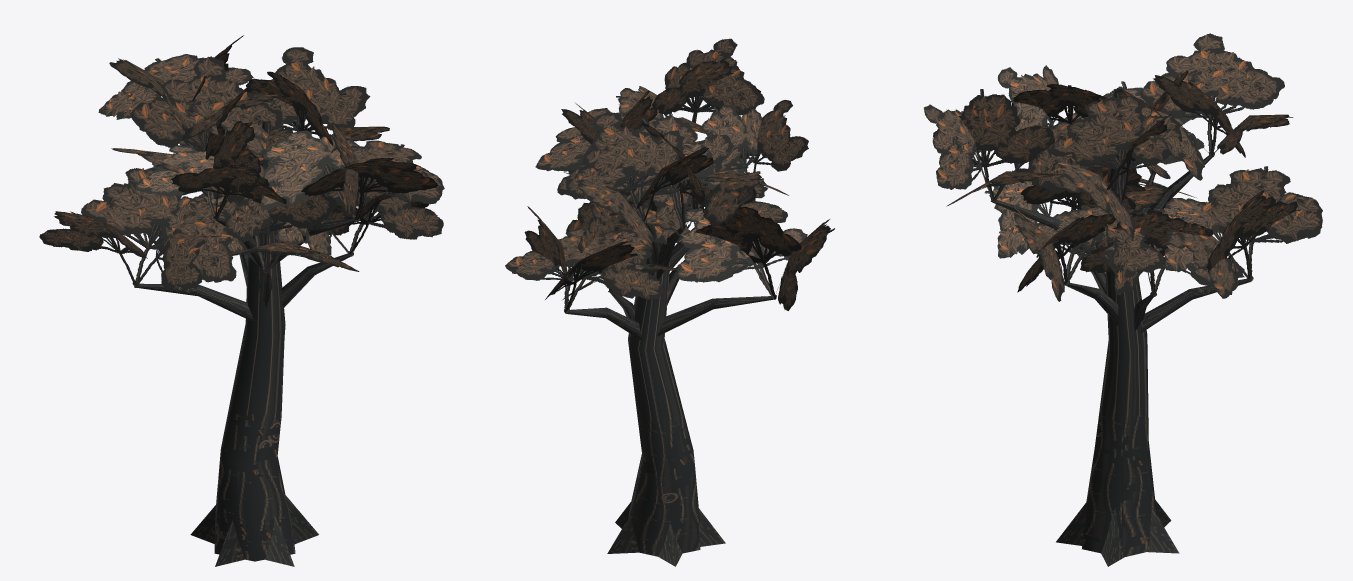
Rendered from volcanic-emberwood-near.glb.
3 views of the same model, side by side, from view 1: azimuth 30°, elevation 25°; view 2: azimuth 150°, elevation 25°; view 3: azimuth 270°, elevation 25° (orthographic). The views are drawn at different scales.
Parts seen in each view (by area): view 1: Volcanic emberwood near v3 runtime; view 2: Volcanic emberwood near v3 runtime; view 3: Volcanic emberwood near v3 runtime.
Boxes of the visible parts, box(x1,y1,x2,y2) form: Volcanic emberwood near v3 runtime: box(39, 35, 444, 566); Volcanic emberwood near v3 runtime: box(505, 38, 834, 566); Volcanic emberwood near v3 runtime: box(924, 33, 1322, 566).
Bounding box in the file's own units: 6.42 × 8.04 × 6.54.
1 material, 1 textured.
